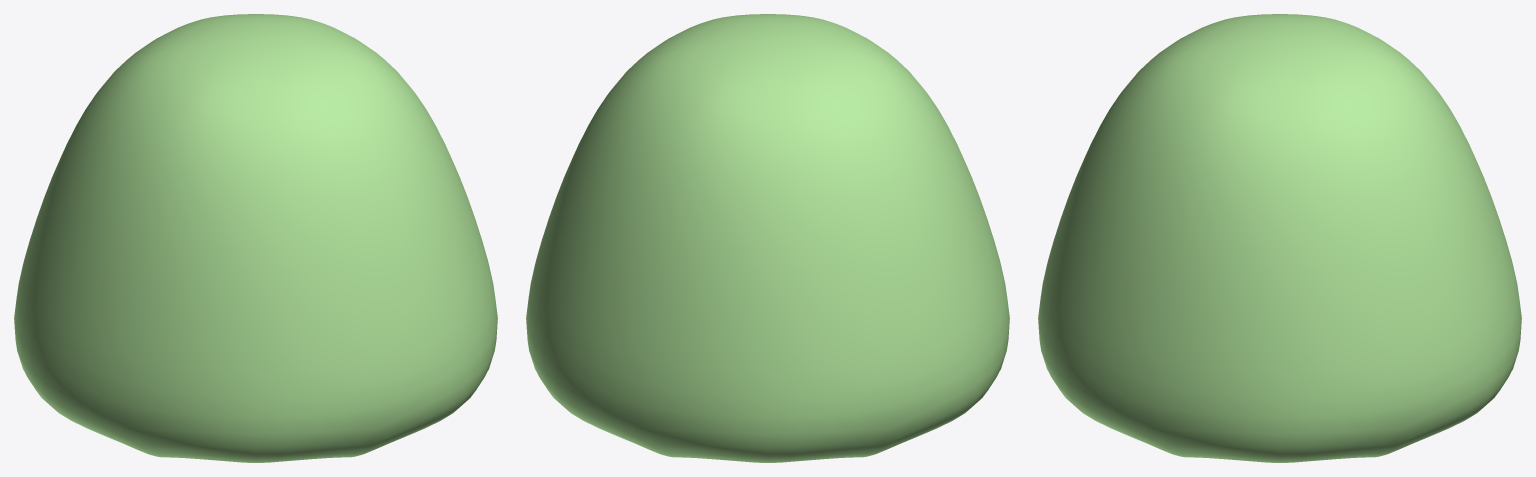
The model's file is UntarGoop.fbx.
3 renders of one model, left to right at view 1: azimuth 30°, elevation 25°; view 2: azimuth 150°, elevation 25°; view 3: azimuth 270°, elevation 25°, orthographic.
Parts seen in each view (by area): view 1: Cone; view 2: Cone; view 3: Cone.
Boxes of the visible parts, x1,y1,x2,y2 form: Cone: (14,14,497,462); Cone: (526,14,1009,462); Cone: (1038,14,1521,462).
Bounding box in the file's own units: 0.458 × 0.4618 × 0.3771.
